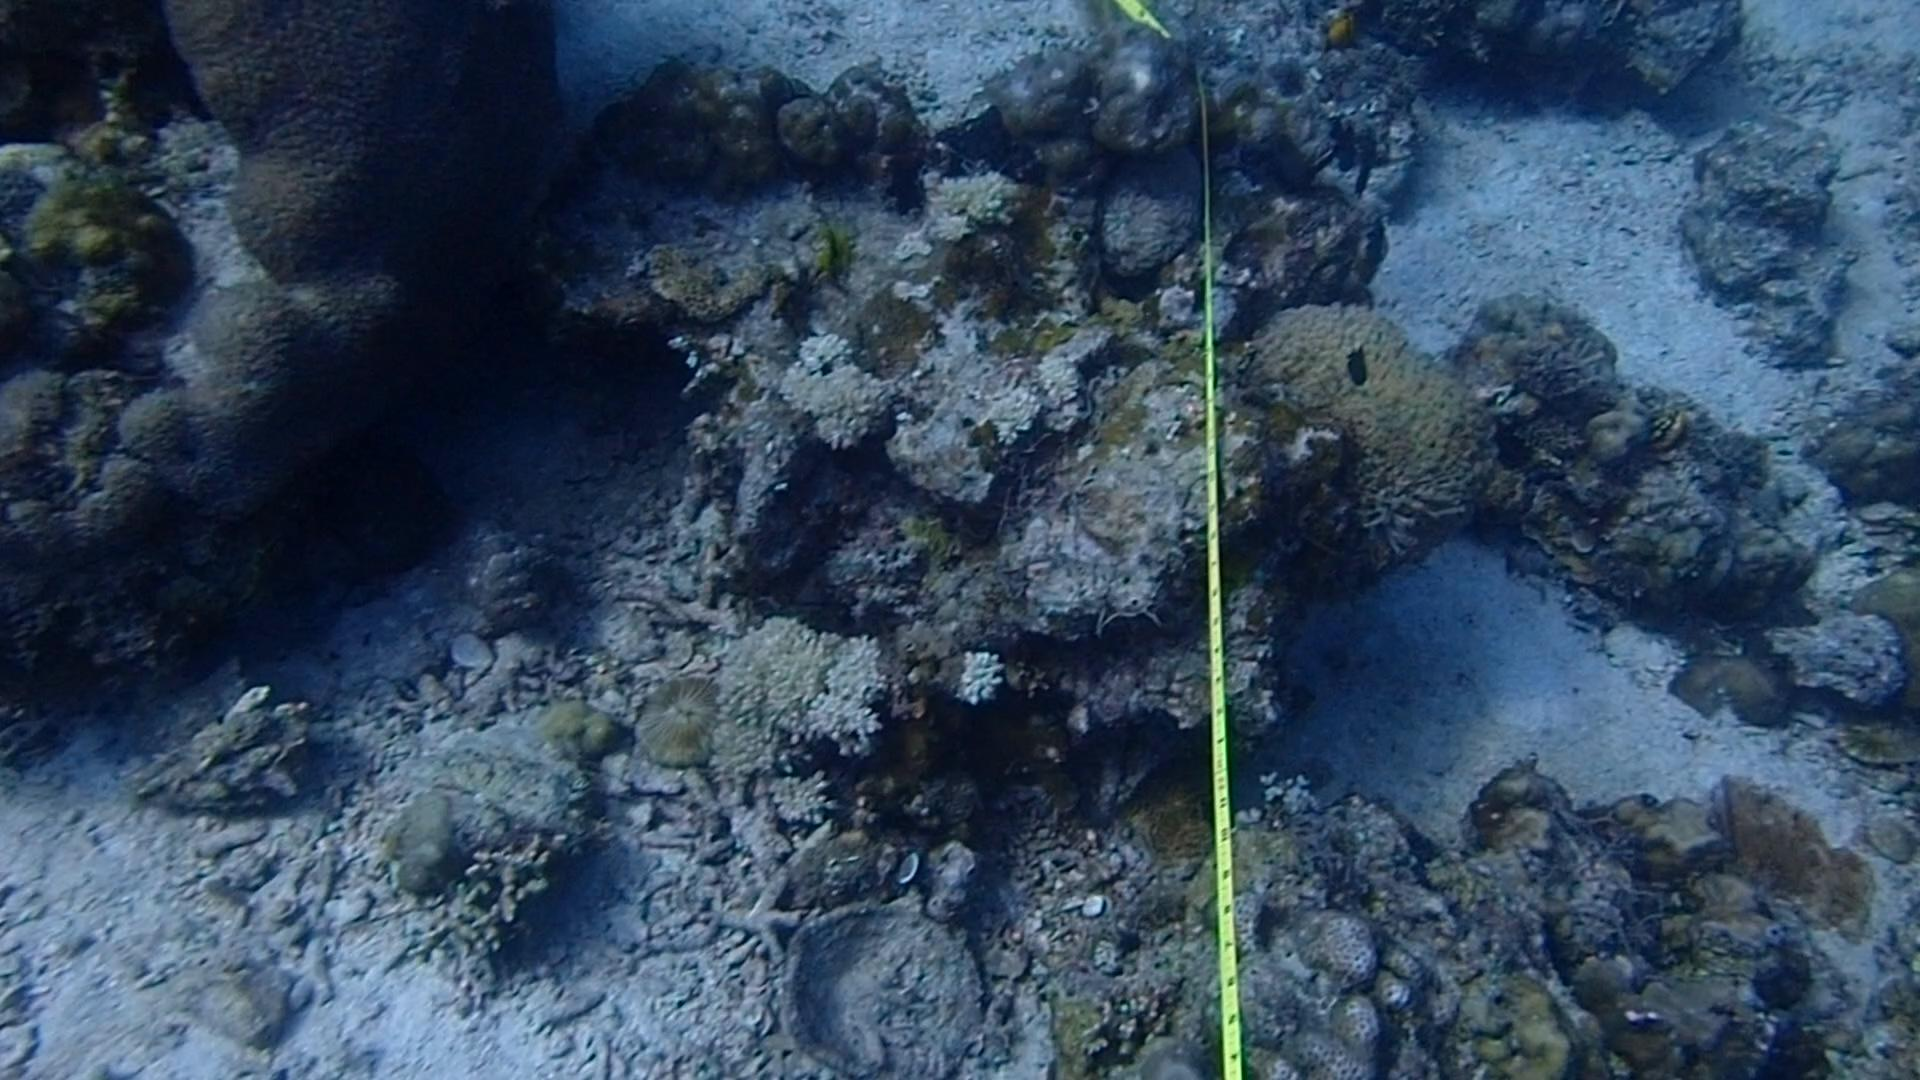Dark Fish: (1312, 105, 1373, 187), (1484, 413, 1542, 487), (1352, 210, 1399, 289), (1328, 340, 1385, 394), (1346, 135, 1383, 203)
